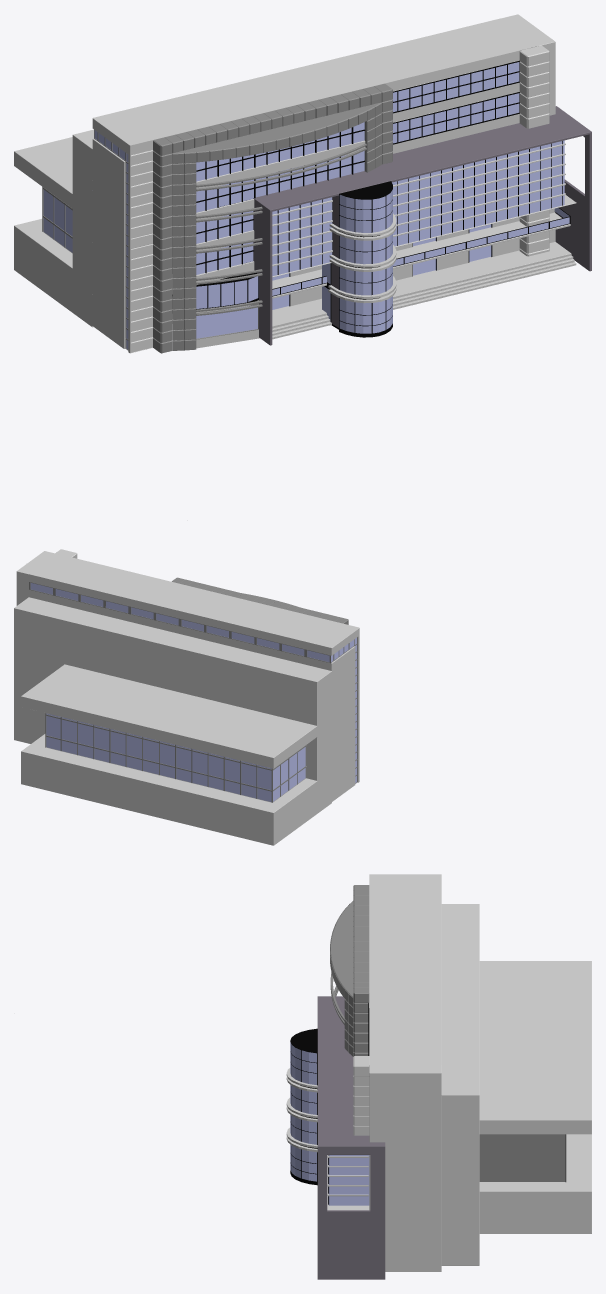
File: nykjzx.fbx
3 renders of one model, top to bottom at view 1: azimuth 30°, elevation 25°; view 2: azimuth 150°, elevation 25°; view 3: azimuth 270°, elevation 25°, orthographic. The views are drawn at different scales.
Parts seen in each view (by area): view 1: Cube.002; view 2: Cube.002; view 3: Cube.002.
Part boxes in pixels (box(x1,y1,x2,y2)): Cube.002: box(14, 14, 591, 520); Cube.002: box(14, 549, 359, 845); Cube.002: box(286, 874, 591, 1279).
Bounding box in the file's own units: 3007 × 1081 × 2793.
